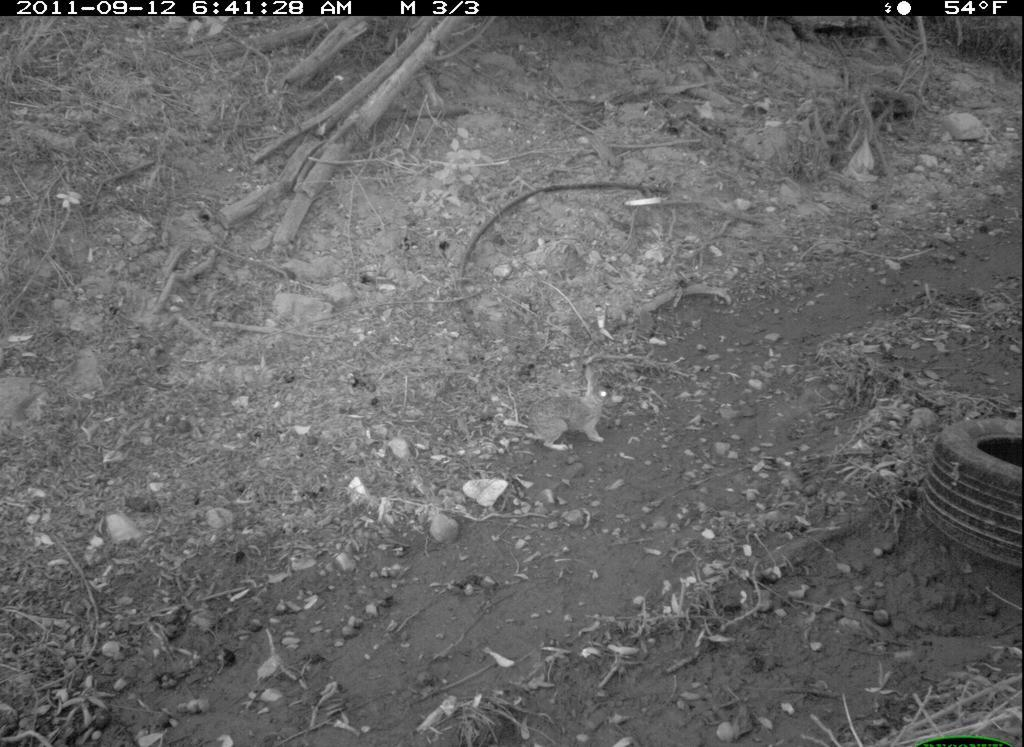rabbit: (506, 363, 633, 466)
